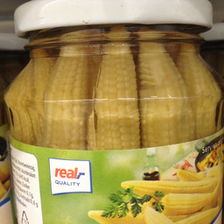corn: (3, 1, 224, 221)
